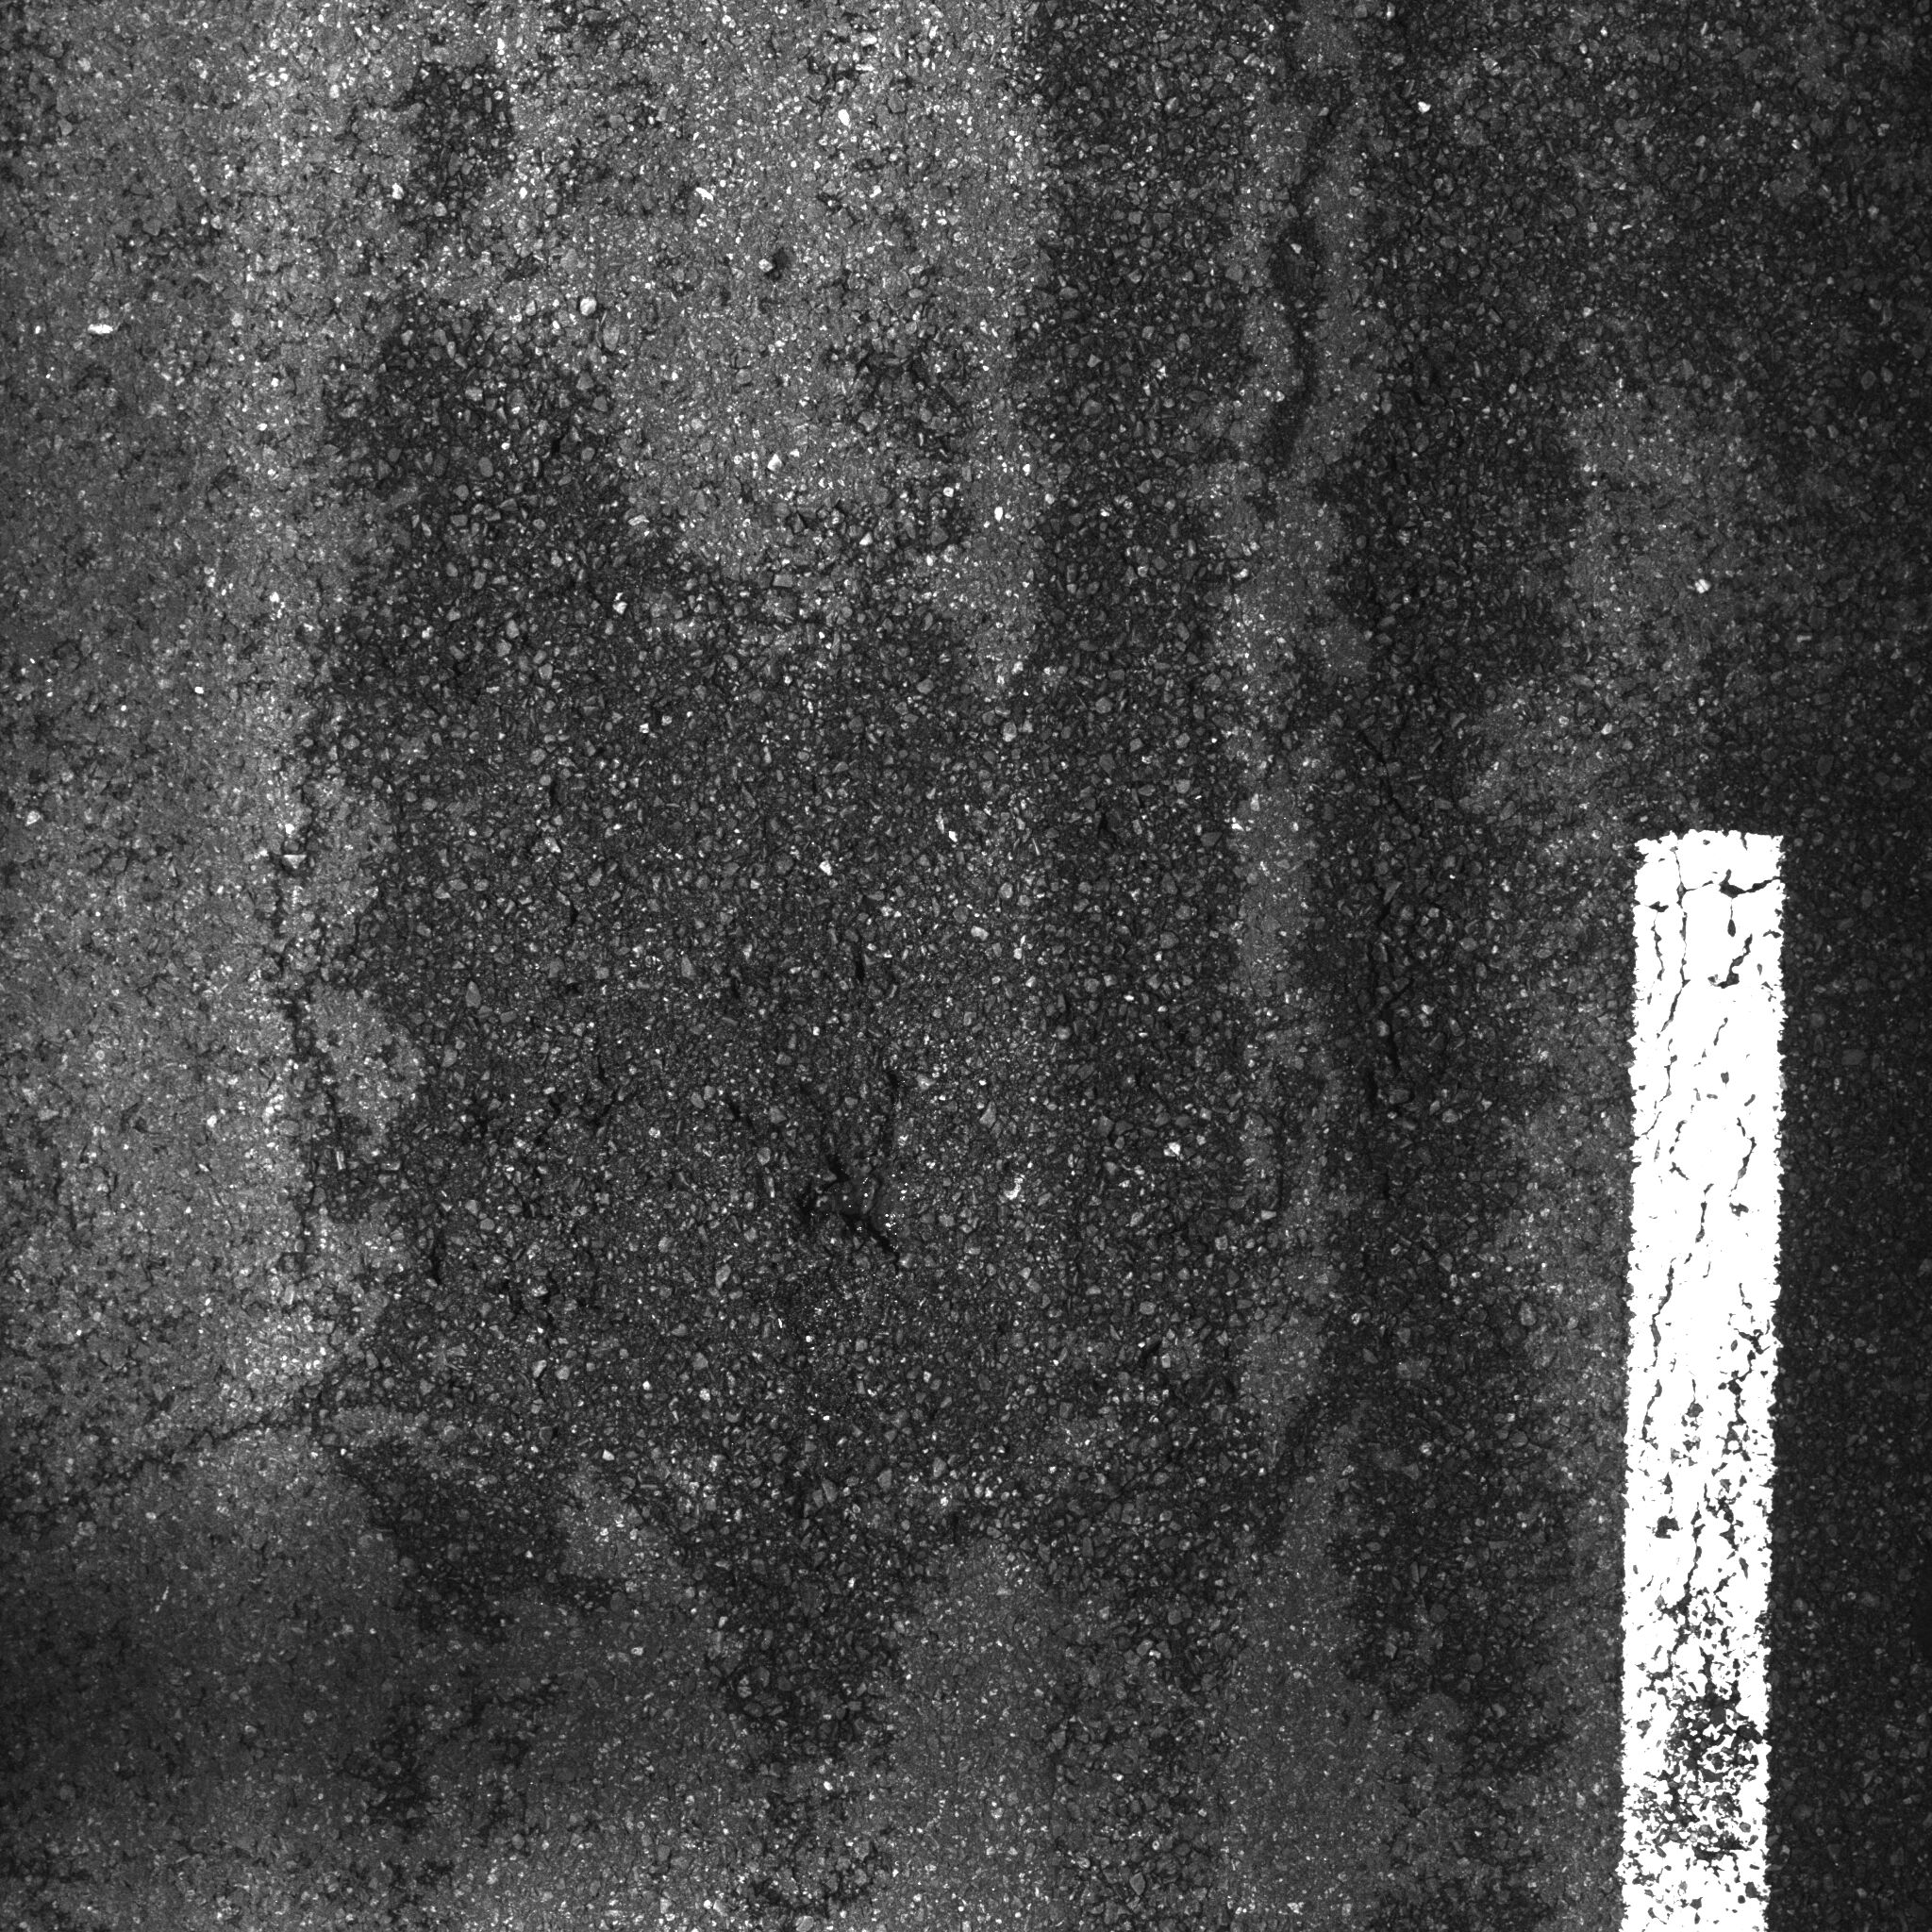alligator: (111, 2, 1560, 1736)
